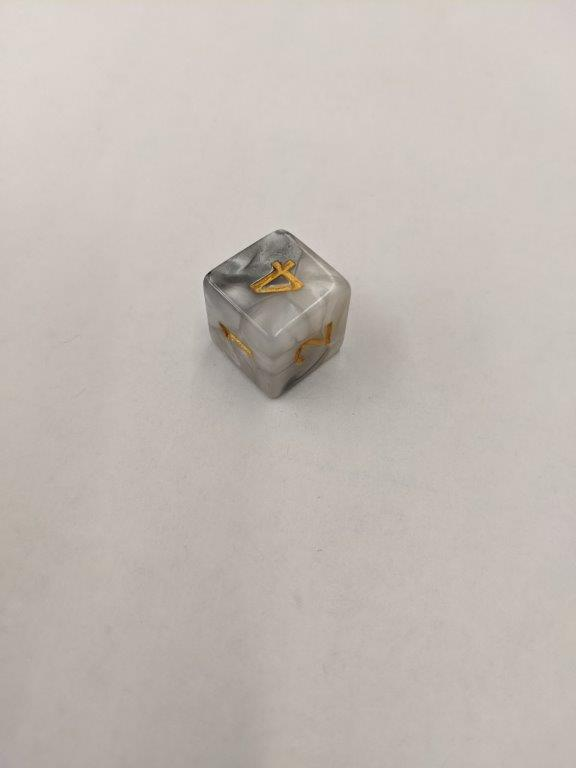d6-4: (202, 226, 352, 400)
